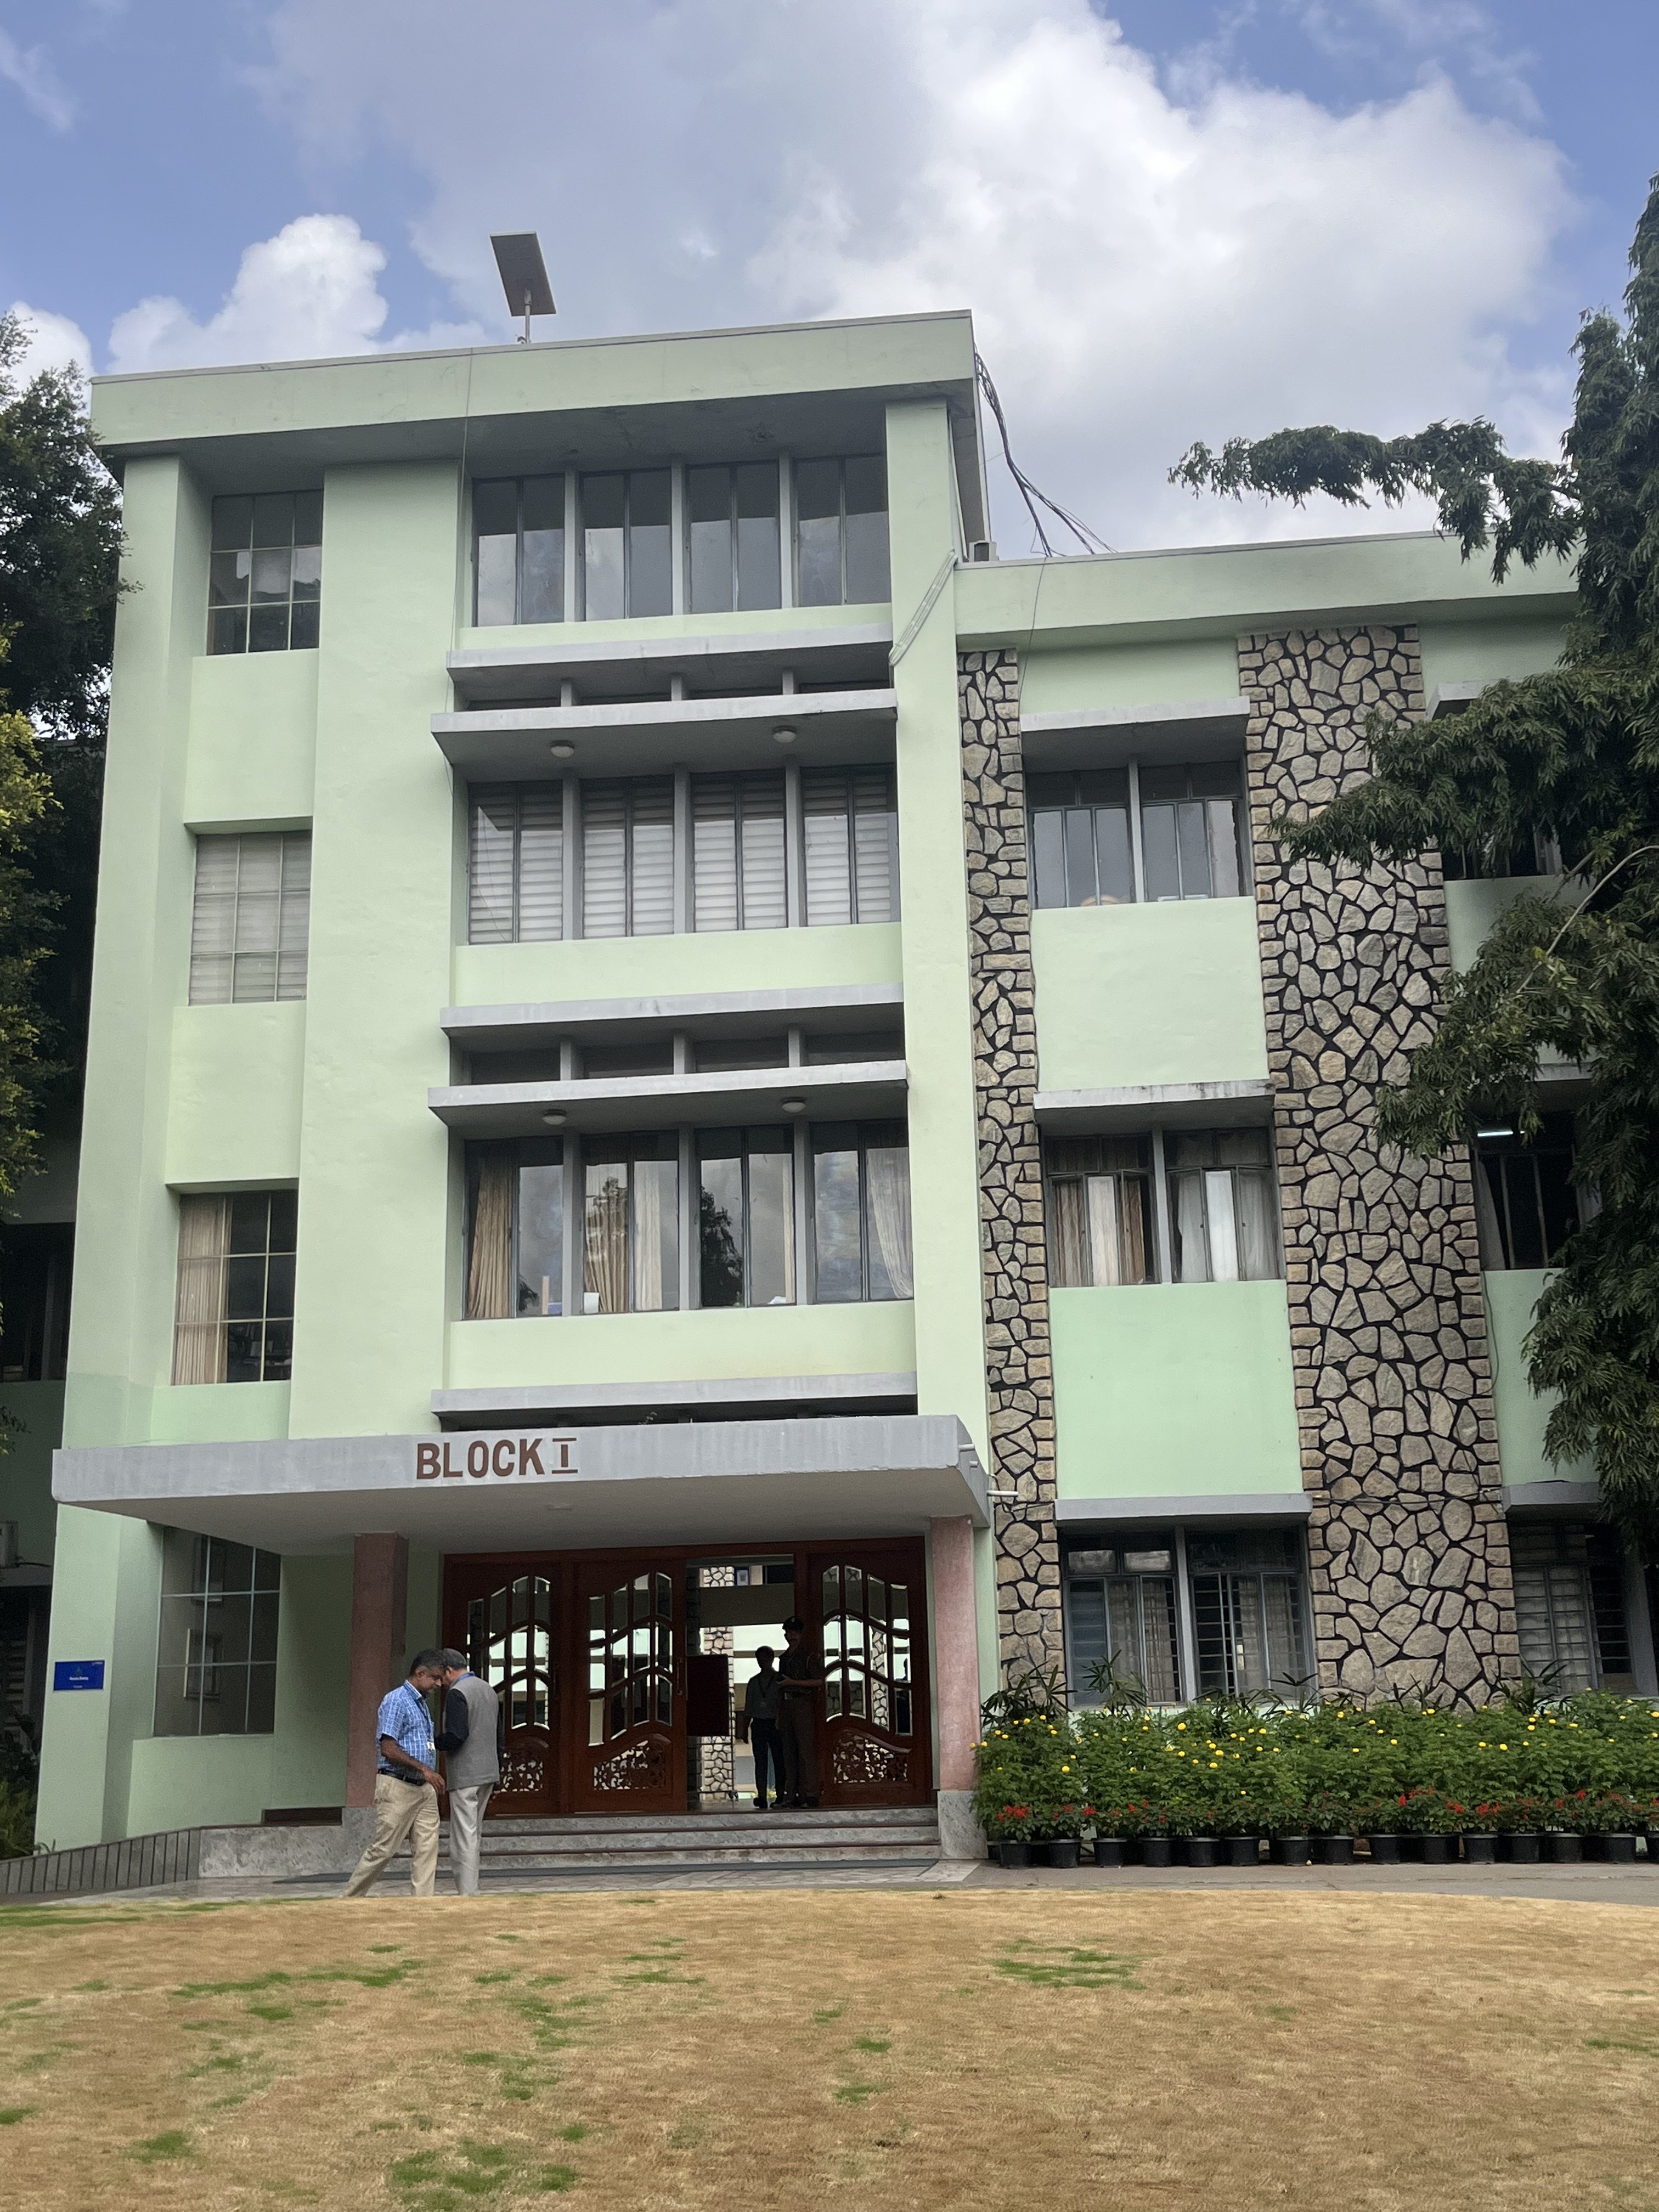Block 1: (52, 340, 1659, 2029)
